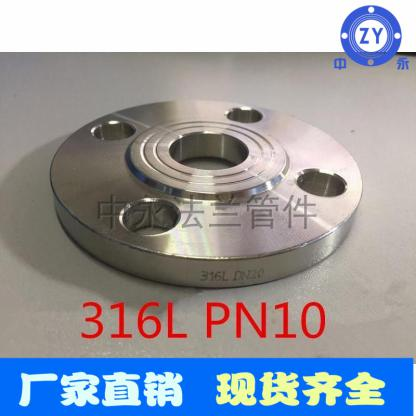FOD: (45, 95, 368, 293)
